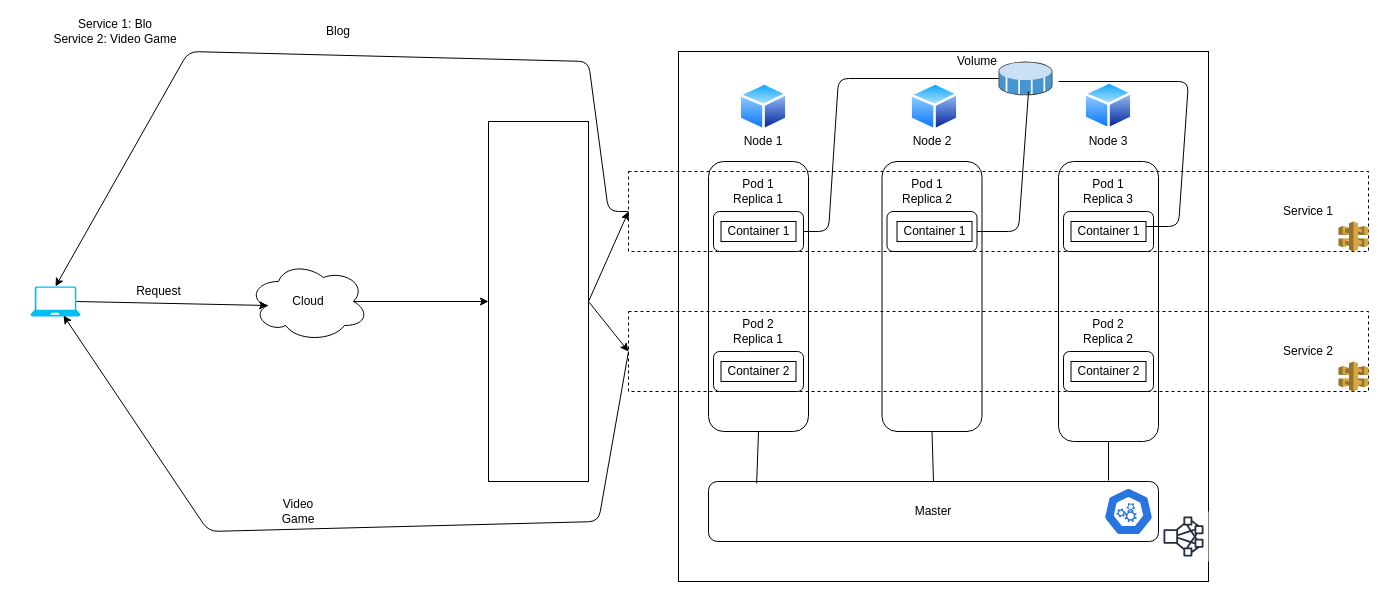
Image size: 1386x600. Some labels were removed from this diagram. Here are the shapes that lost their labels. From the top down, the centre of each, then its label:
At (55,301): "Local machine".
At (538,301): "Load Balancer".
At (1183,536): "Cluster".
